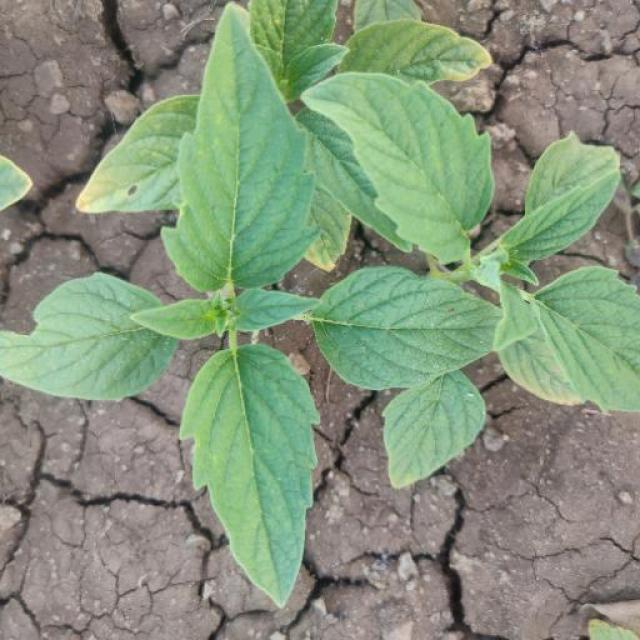crop: (11, 19, 640, 556)
